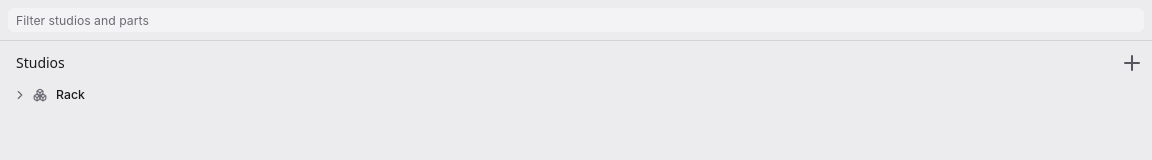
Test case: subassembly tree › retains source part rows when the engine reports mixed exports
What coordinates should you click on to do the following:
click the button named "Expand Rack"
I would click on:
 (20, 95)
Its box is [10,85,30,105].
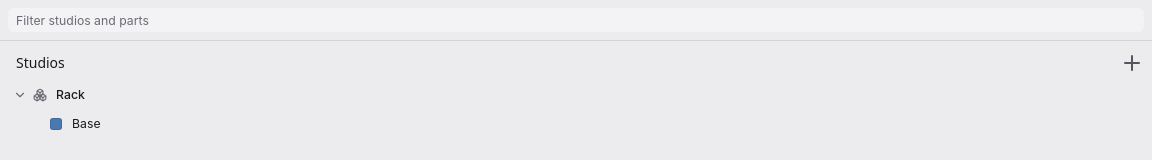
Check: the button "Base" is shown, box [72,116,1108,132]
